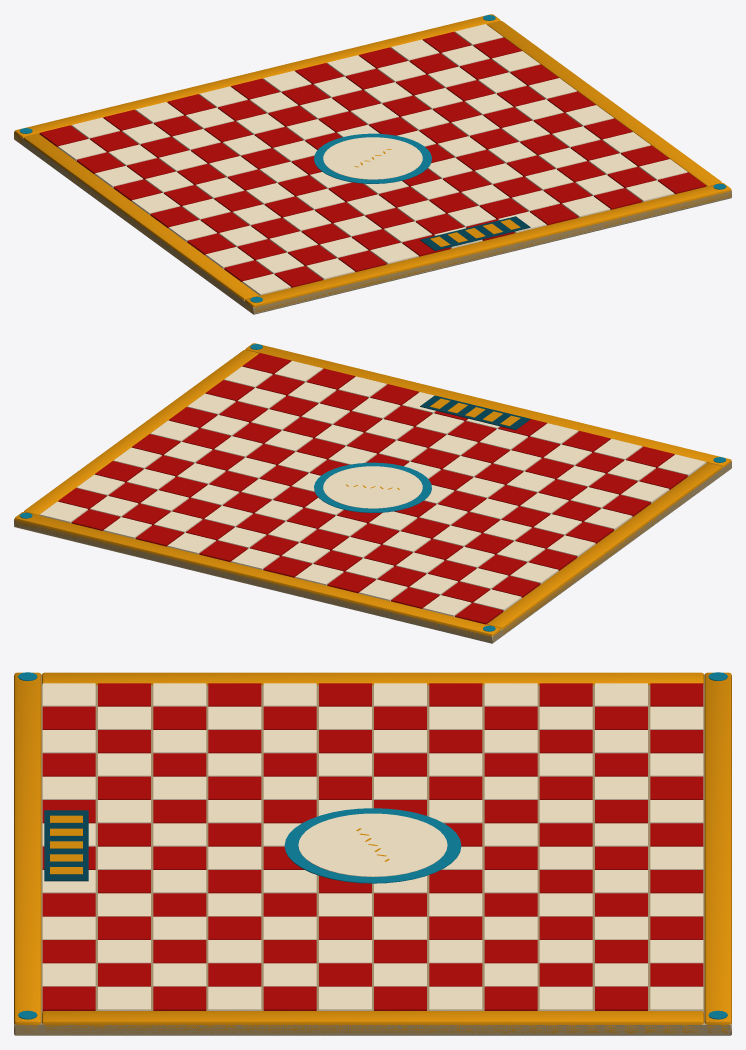
The model's file is DashFloor.fbx.
3 views of the same model, one above another, from view 1: azimuth 30°, elevation 25°; view 2: azimuth 150°, elevation 25°; view 3: azimuth 270°, elevation 25° (orthographic). The views are drawn at different scales.
Parts seen in each view (by area): view 1: DashFloor; view 2: DashFloor; view 3: DashFloor.
Boxes of the visible parts, box(x1,y1,x2,y2) form: DashFloor: box(14, 14, 731, 314); DashFloor: box(14, 343, 731, 643); DashFloor: box(14, 672, 731, 1035).
Bounding box in the file's own units: 30 × 0.655 × 26.
